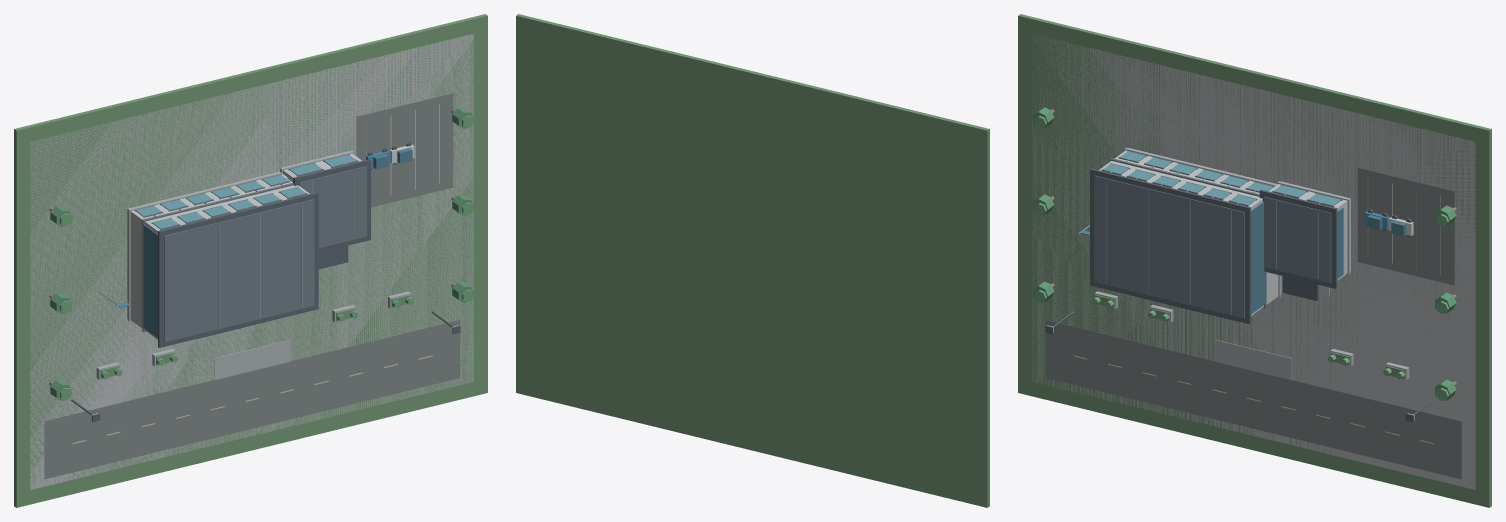
Rendered from commercial_building_level_2.glb.
The picture shows the model from 3 angles, left to right: view 1: azimuth 30°, elevation 25°; view 2: azimuth 150°, elevation 25°; view 3: azimuth 330°, elevation 25°; orthographic projection.
Visible parts, largest first — view 1: part_00000, part_00001, part_00002, part_00058, part_00213, part_00164, part_00054, part_00057, part_00232, part_00159, part_00163, part_00055 (+2 smaller); view 2: part_00000; view 3: part_00001, part_00000, part_00002, part_00058, part_00213, part_00164, part_00057, part_00054, part_00232, part_00160, part_00163, part_00161 (+4 smaller).
Part boxes in pixels (bbox=[...]): part_00000: bbox=[14, 14, 487, 507]; part_00001: bbox=[30, 33, 473, 489]; part_00002: bbox=[44, 320, 460, 479]; part_00058: bbox=[164, 199, 314, 342]; part_00213: bbox=[356, 93, 453, 207]; part_00164: bbox=[299, 166, 366, 247]; part_00054: bbox=[127, 171, 309, 339]; part_00057: bbox=[158, 192, 318, 347]; part_00232: bbox=[214, 339, 290, 380]; part_00159: bbox=[143, 224, 157, 337]; part_00163: bbox=[293, 159, 370, 252]; part_00055: bbox=[127, 172, 282, 321]; part_00000: bbox=[516, 14, 989, 507]; part_00001: bbox=[1032, 35, 1475, 489]; part_00000: bbox=[1018, 14, 1491, 507]; part_00002: bbox=[1045, 320, 1461, 479]; part_00058: bbox=[1094, 175, 1244, 318]; part_00213: bbox=[1357, 167, 1454, 285]; part_00164: bbox=[1264, 196, 1331, 283]; part_00057: bbox=[1090, 168, 1250, 324]; part_00054: bbox=[1099, 148, 1281, 315]; part_00232: bbox=[1215, 339, 1291, 380]; part_00160: bbox=[1251, 201, 1265, 314]; part_00163: bbox=[1259, 189, 1337, 288]; part_00161: bbox=[1268, 181, 1350, 280].
Bounding box in the file's own units: 68 × 52 × 9.65.
